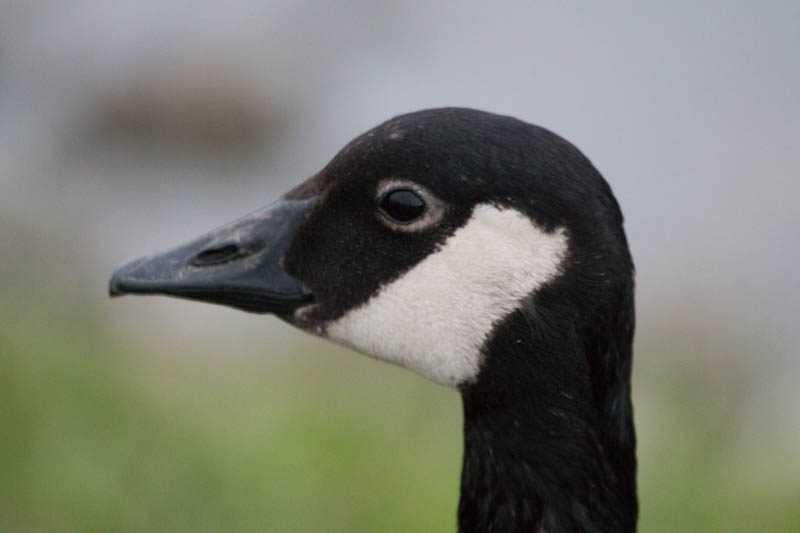goose-head: (108, 105, 636, 391)
